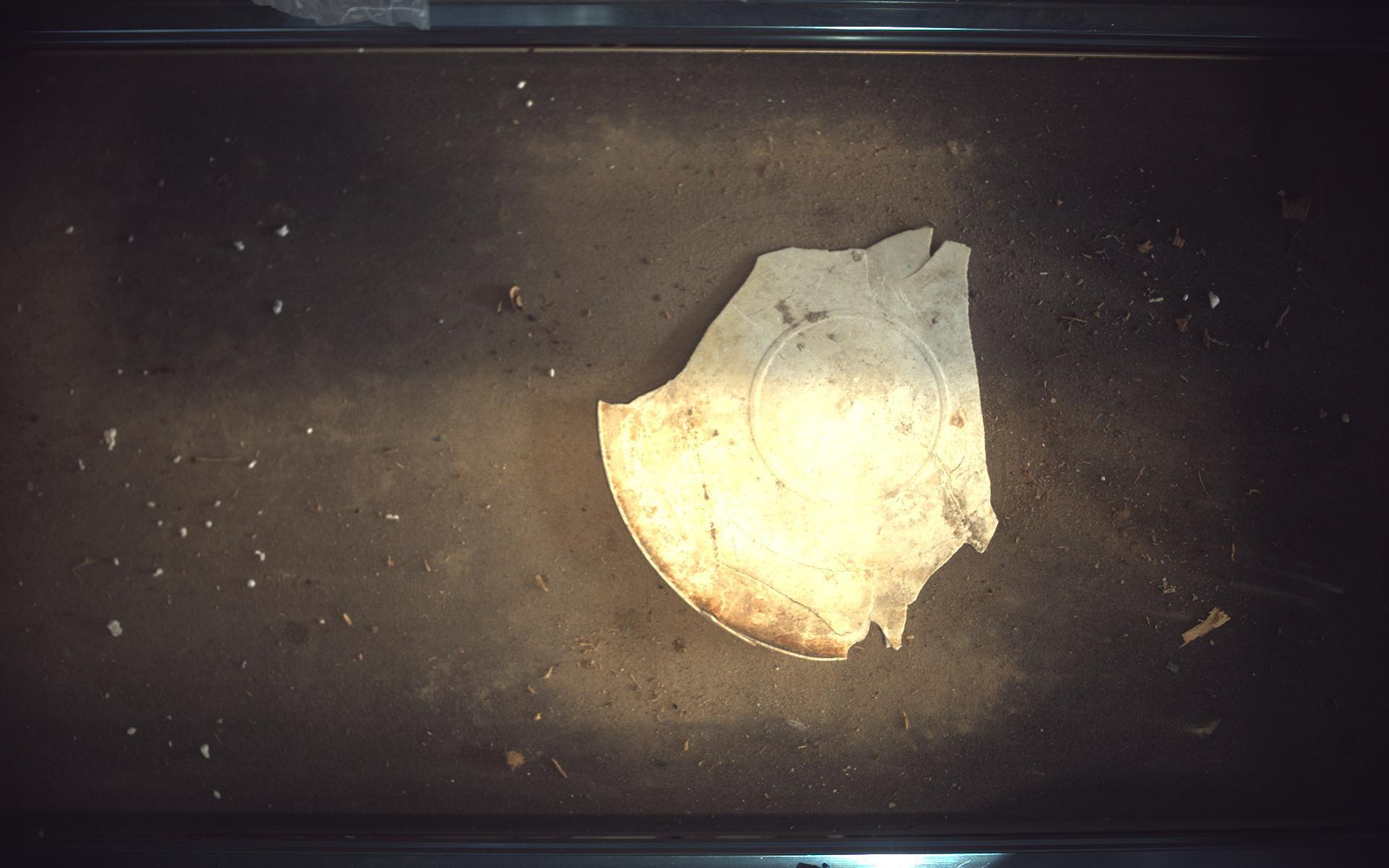plastic: (599, 226, 1000, 660)
